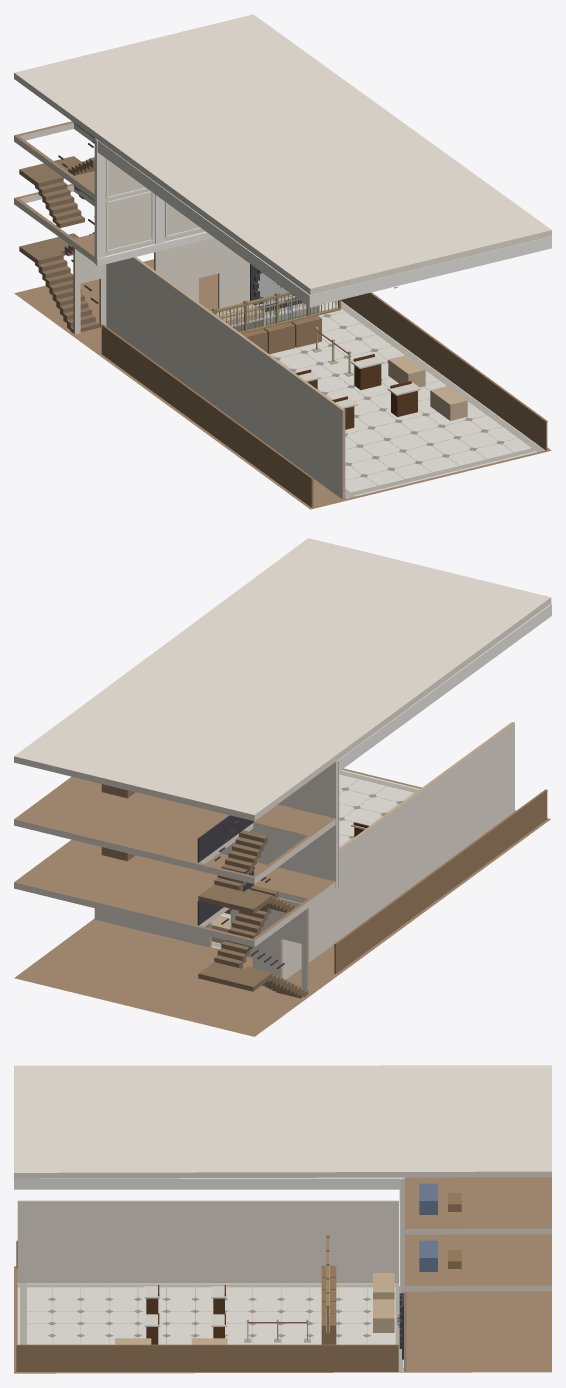
The model's file is interior.glb.
The picture shows the model from 3 angles, top to bottom: view 1: azimuth 30°, elevation 25°; view 2: azimuth 150°, elevation 25°; view 3: azimuth 270°, elevation 25°; orthographic projection. The views are drawn at different scales.
Visible parts, largest first — view 1: slabs, partitions, hall-floor, bank-hall, hall-screen, stair, coarse-s0, bank-check-desks, bank-fittings, bank-teller-bronze; view 2: slabs, partitions, bank-hall, stair, hall-screen, hall-floor; view 3: slabs, partitions, hall-floor, bank-hall, coarse-s0, bank-check-desks, coarse-s1, coarse-s2, hall-screen, bank-fittings, bank-teller-bronze.
Part boxes in pixels (left/top/right/bottom): slabs: left=14, top=14, right=551, bottom=509; partitions: left=73, top=238, right=345, bottom=499; hall-floor: left=265, top=300, right=544, bottom=498; bank-hall: left=97, top=140, right=551, bottom=507; hall-screen: left=94, top=138, right=213, bottom=265; stair: left=19, top=122, right=98, bottom=333; coarse-s0: left=217, top=304, right=467, bottom=420; bank-check-desks: left=295, top=354, right=421, bottom=429; bank-fittings: left=216, top=264, right=319, bottom=331; bank-teller-bronze: left=210, top=292, right=341, bottom=333; slabs: left=14, top=538, right=551, bottom=1036; partitions: left=94, top=722, right=514, bottom=993; bank-hall: left=334, top=603, right=551, bottom=973; stair: left=197, top=815, right=308, bottom=998; hall-screen: left=220, top=760, right=339, bottom=888; hall-floor: left=211, top=770, right=419, bottom=948; slabs: left=14, top=1065, right=551, bottom=1373; partitions: left=17, top=1200, right=449, bottom=1371; hall-floor: left=17, top=1283, right=403, bottom=1371; bank-hall: left=14, top=1177, right=401, bottom=1371; coarse-s0: left=115, top=1265, right=394, bottom=1344; bank-check-desks: left=144, top=1285, right=226, bottom=1344; coarse-s1: left=419, top=1240, right=461, bottom=1271; coarse-s2: left=419, top=1183, right=461, bottom=1214; hall-screen: left=399, top=1177, right=404, bottom=1293; bank-fittings: left=329, top=1243, right=403, bottom=1359; bank-teller-bronze: left=326, top=1235, right=329, bottom=1333.
Size of the model in its own units: 10.73 by 9.3 by 22.55.
